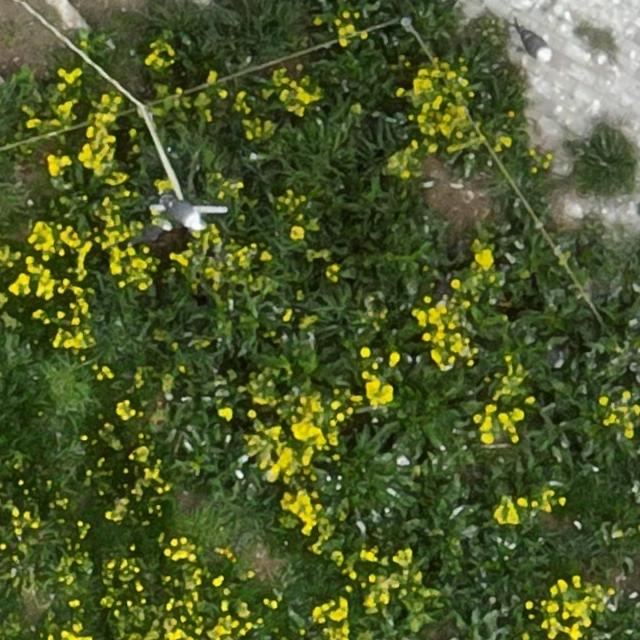umineko: (174, 203, 206, 231), (519, 31, 548, 60)
